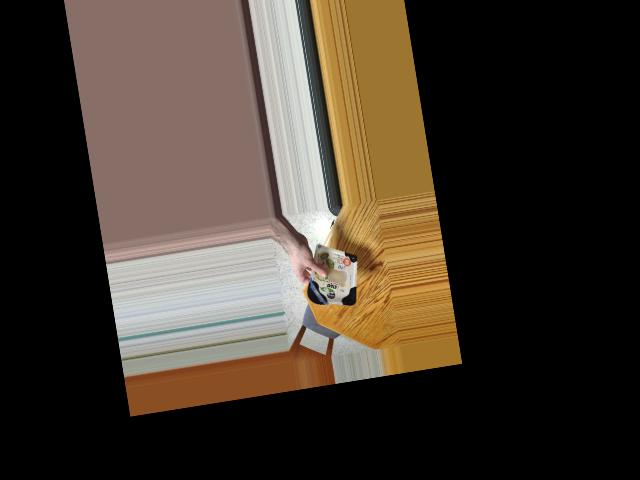cheese: (303, 249, 362, 310)
